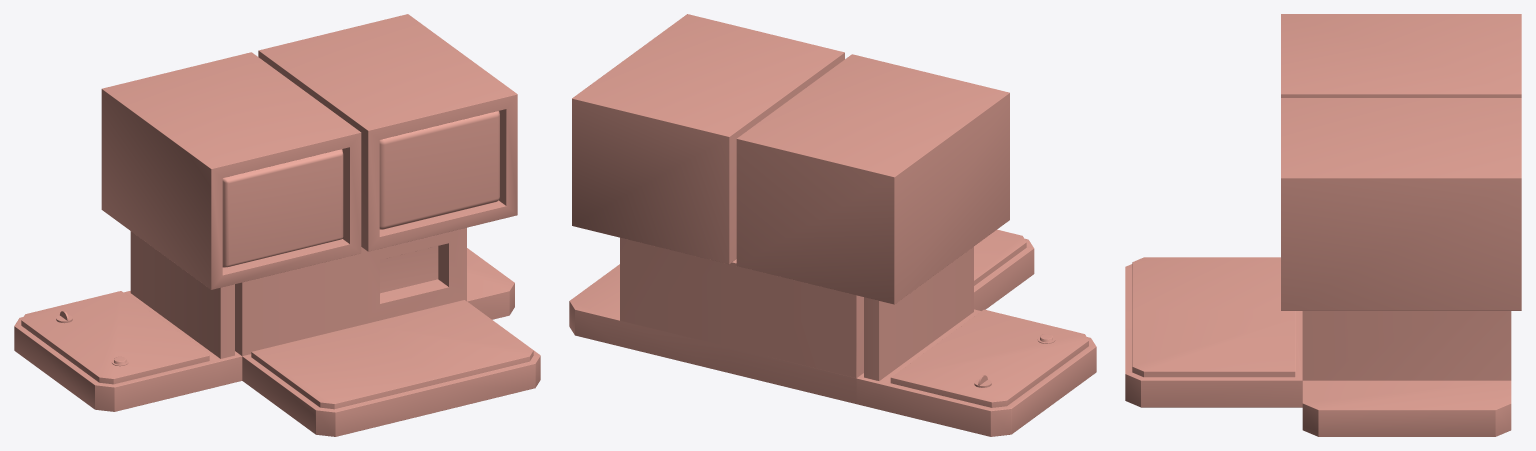
File: Compu.fbx
The picture shows the model from 3 angles, left to right: view 1: azimuth 30°, elevation 25°; view 2: azimuth 150°, elevation 25°; view 3: azimuth 270°, elevation 25°; orthographic projection. The views are drawn at different scales.
Parts seen in each view (by area): view 1: Cube.001; view 2: Cube.001; view 3: Cube.001.
Boxes of the visible parts, left/top/right/bottom form: Cube.001: left=14, top=14, right=540, bottom=436; Cube.001: left=569, top=14, right=1096, bottom=436; Cube.001: left=1125, top=14, right=1521, bottom=436.
Bounding box in the file's own units: 510 × 266 × 380.
